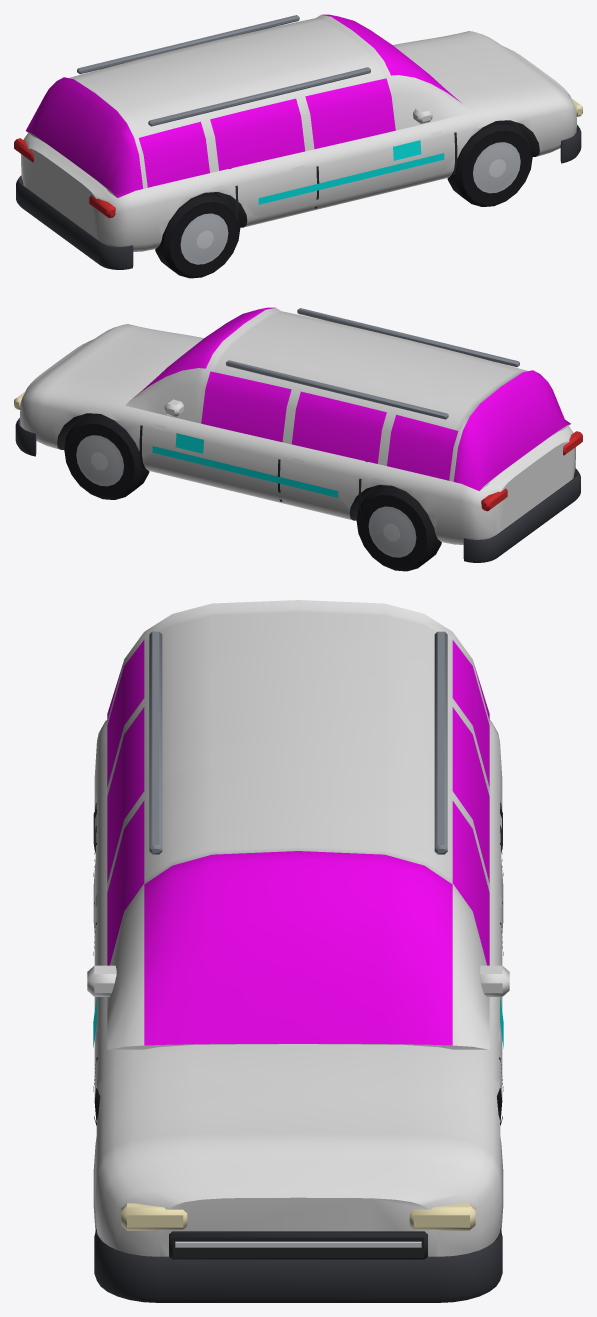
The model's file is suv.glb.
3 views of the same model, one above another, from view 1: azimuth 30°, elevation 25°; view 2: azimuth 150°, elevation 25°; view 3: azimuth 270°, elevation 25° (orthographic). The views are drawn at different scales.
Parts seen in each view (by area): view 1: LOD0; view 2: LOD0; view 3: LOD0.
Part boxes in pixels (x1,y1,x2,y2): LOD0: (14,14,582,278); LOD0: (14,307,582,571); LOD0: (87,600,509,1302).
Size of what is drawn, in the model's own units: 5.27 by 1.7 by 1.99.
